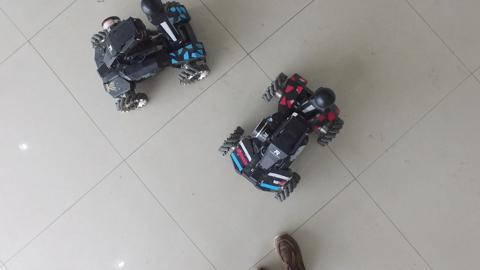chariot: (218, 66, 347, 206), (85, 1, 213, 119)
